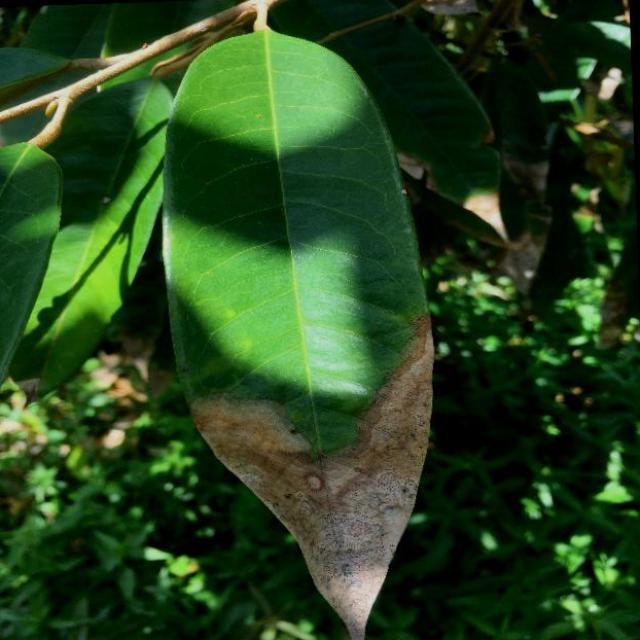Leaf Blight: (146, 10, 456, 640)
